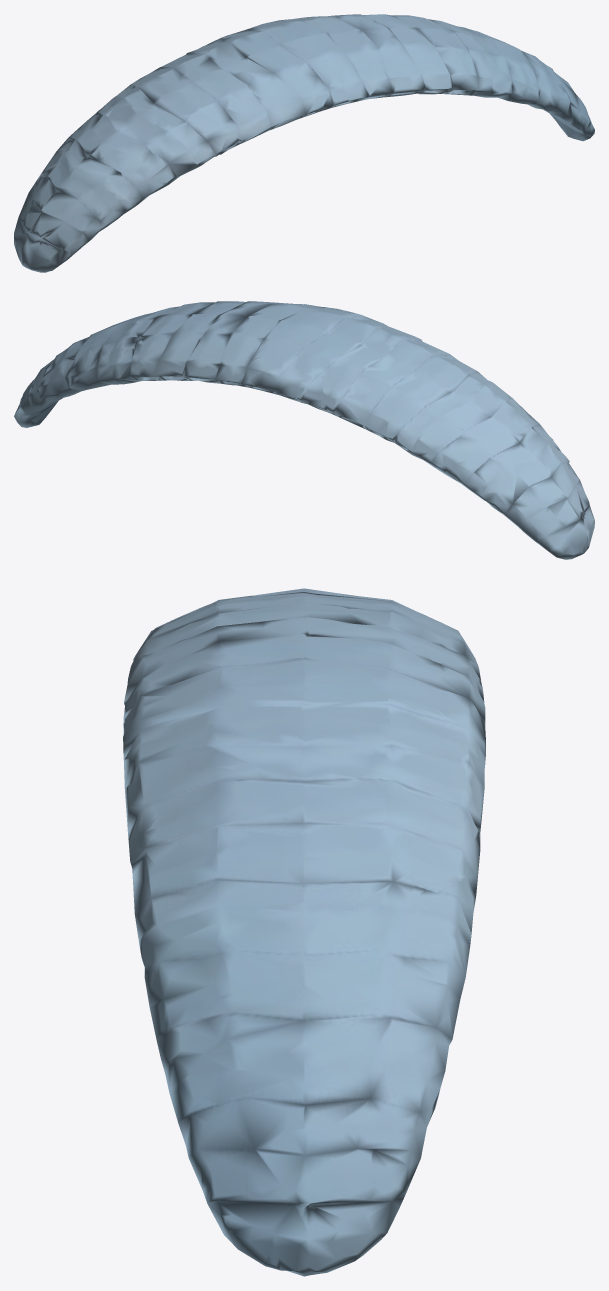
File: wing.glb
The picture shows the model from 3 angles, top to bottom: view 1: azimuth 30°, elevation 25°; view 2: azimuth 150°, elevation 25°; view 3: azimuth 270°, elevation 25°; orthographic projection. The views are drawn at different scales.
Visible parts, largest first — view 1: tripo_node_2bcbf293-27b8-41a5-9096-9848414fc3c4; view 2: tripo_node_2bcbf293-27b8-41a5-9096-9848414fc3c4; view 3: tripo_node_2bcbf293-27b8-41a5-9096-9848414fc3c4.
Part boxes in pixels (box(x1,y1,x2,y2)): tripo_node_2bcbf293-27b8-41a5-9096-9848414fc3c4: box(14, 14, 594, 272); tripo_node_2bcbf293-27b8-41a5-9096-9848414fc3c4: box(14, 301, 594, 559); tripo_node_2bcbf293-27b8-41a5-9096-9848414fc3c4: box(123, 588, 485, 1276).
Bounding box in the file's own units: 0.9986 × 0.2809 × 0.2776.
Materials: 1 (1 with a texture image).
